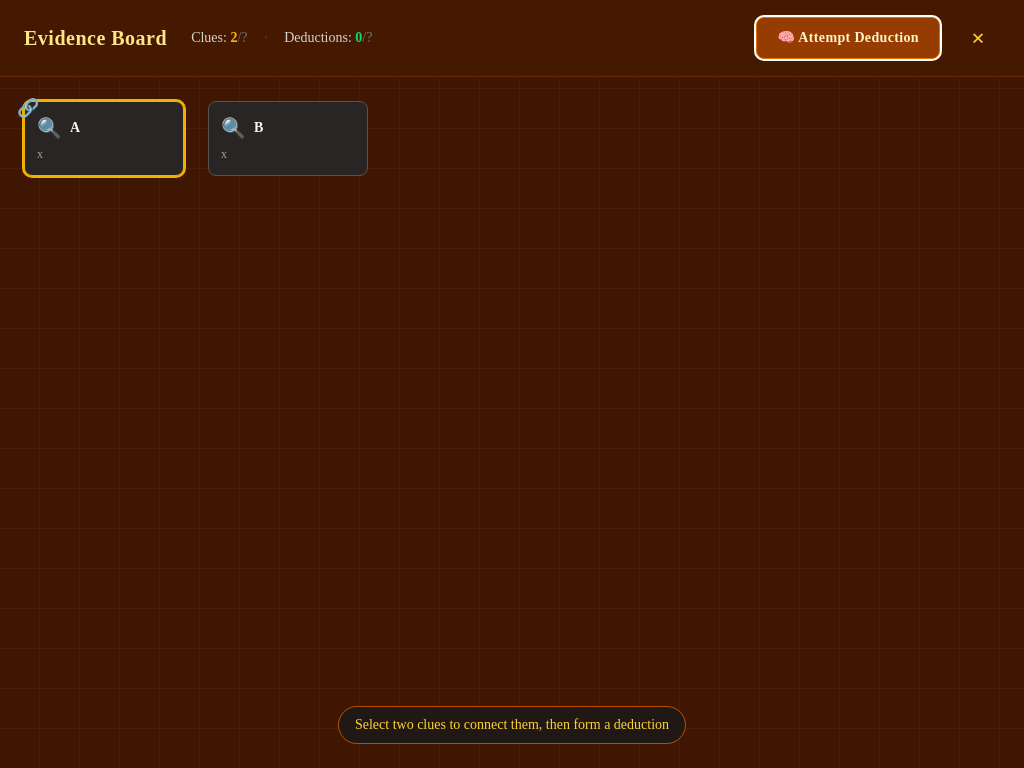
EvidenceBoard — oracle-driven formation (Phase 2b, ADR-0012) › empty classified result (all edges stale) → red banner, forms nothing, clears (Minor 5)
Click the button "🧠 Attempt Deduction". click: (848, 38)
box: [756,17,940,59]
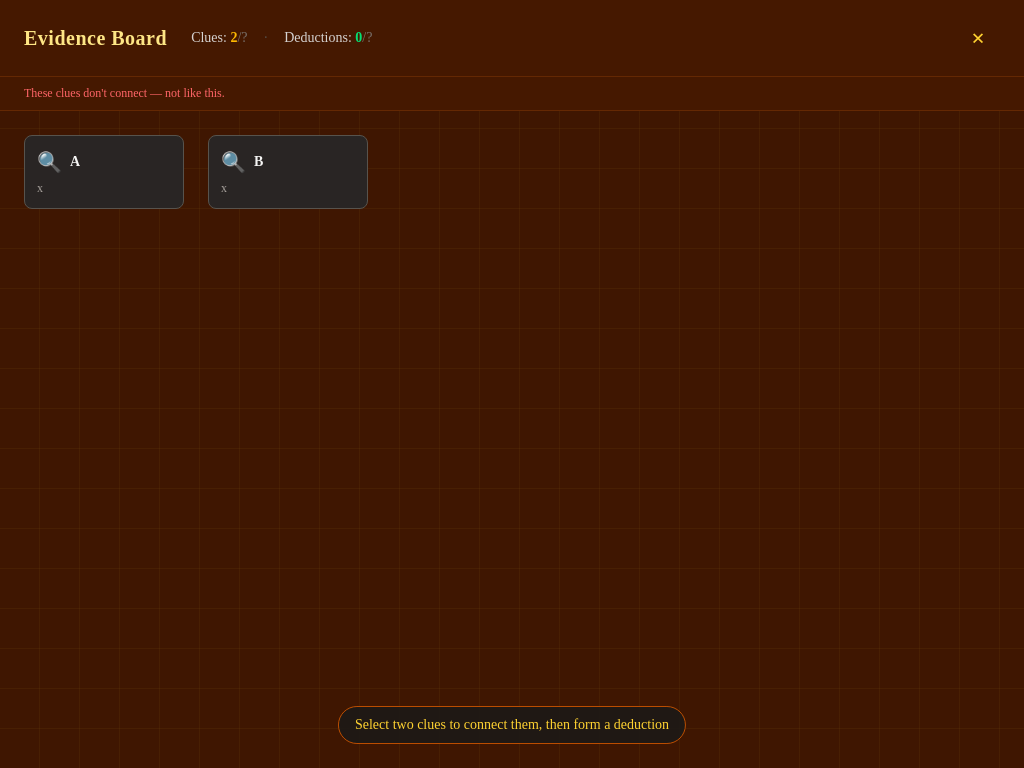
Expected: the text "These clues don't connect — not like this." is shown, [0,77,1023,110]
